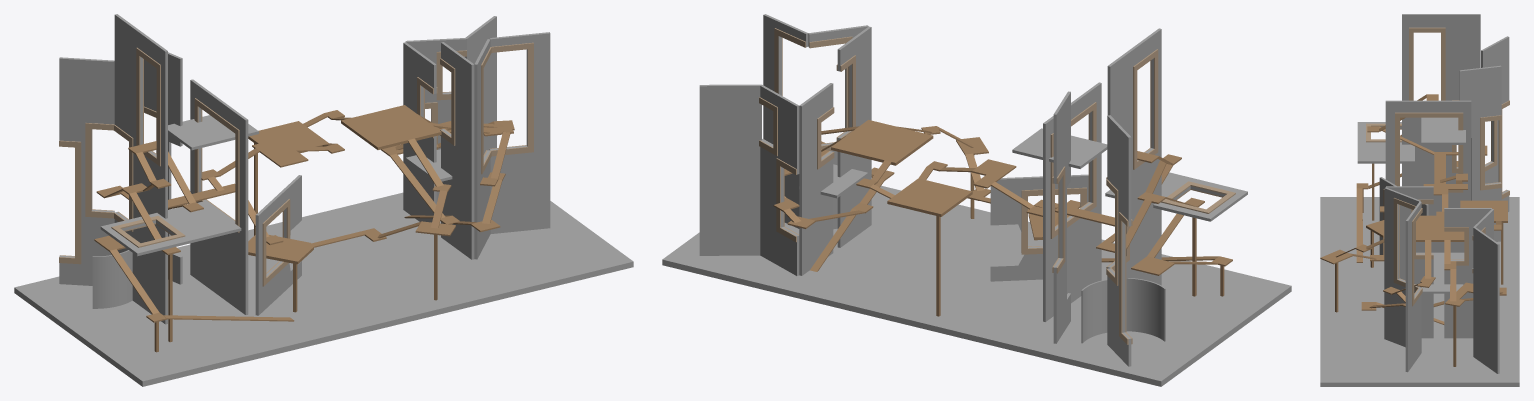
File: 08_CHUI.glb
The picture shows the model from 3 angles, left to right: view 1: azimuth 30°, elevation 25°; view 2: azimuth 150°, elevation 25°; view 3: azimuth 270°, elevation 25°; orthographic projection. The views are drawn at different scales.
Parts seen in each view (by area): view 1: 01 DIZUO, 06 KAO, 02 JIE, 03 DING, 07 XUAN, 08 CHUI, 05AN, 04 ZHUAN; view 2: 01 DIZUO, 06 KAO, 05AN, 03 DING, 07 XUAN, 04 ZHUAN, 02 JIE, 08 CHUI; view 3: 01 DIZUO, 06 KAO, 07 XUAN, 03 DING, 02 JIE, 05AN, 08 CHUI, 04 ZHUAN.
Part boxes in pixels (left/top/right/bottom): 01 DIZUO: left=14, top=105, right=633, bottom=386; 06 KAO: left=59, top=14, right=241, bottom=324; 02 JIE: left=474, top=32, right=550, bottom=259; 03 DING: left=403, top=42, right=474, bottom=259; 07 XUAN: left=168, top=79, right=258, bottom=314; 08 CHUI: left=255, top=175, right=301, bottom=315; 05AN: left=464, top=16, right=496, bottom=154; 04 ZHUAN: left=405, top=38, right=466, bottom=202; 01 DIZUO: left=662, top=120, right=1291, bottom=386; 06 KAO: left=1052, top=28, right=1247, bottom=366; 05AN: left=699, top=84, right=761, bottom=255; 03 DING: left=799, top=26, right=871, bottom=275; 07 XUAN: left=1012, top=82, right=1107, bottom=321; 04 ZHUAN: left=759, top=84, right=799, bottom=275; 02 JIE: left=763, top=14, right=868, bottom=229; 08 CHUI: left=990, top=174, right=1088, bottom=281; 01 DIZUO: left=1320, top=94, right=1519, bottom=386; 06 KAO: left=1357, top=14, right=1509, bottom=241; 07 XUAN: left=1385, top=100, right=1471, bottom=252; 03 DING: left=1386, top=186, right=1491, bottom=338; 02 JIE: left=1384, top=187, right=1422, bottom=372; 05AN: left=1473, top=227, right=1499, bottom=373; 08 CHUI: left=1379, top=177, right=1428, bottom=254; 04 ZHUAN: left=1472, top=209, right=1493, bottom=273.
Bounding box in the file's own units: 9.23 × 5 × 4.18.
